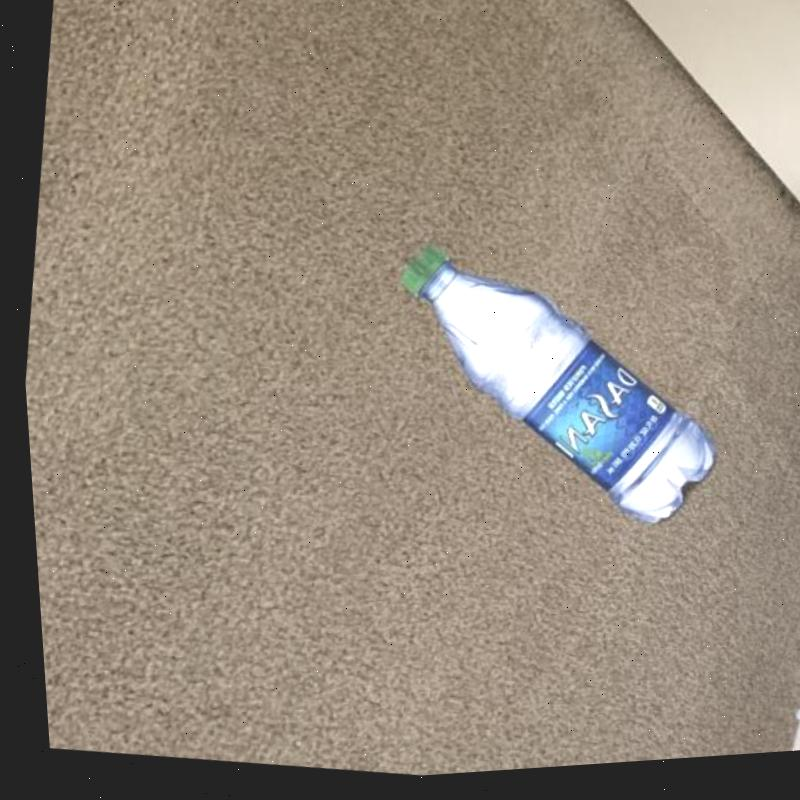botella: (363, 239, 733, 550)
